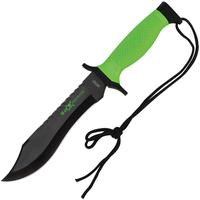knife: (1, 7, 164, 185)
